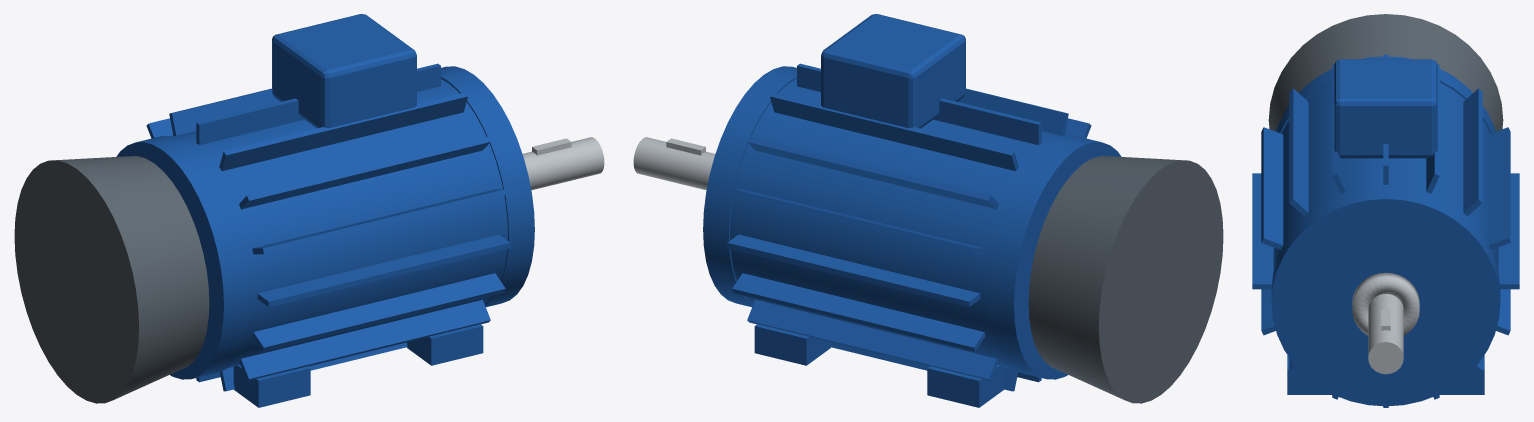
Rendered from motor.glb.
The picture shows the model from 3 angles, left to right: view 1: azimuth 30°, elevation 25°; view 2: azimuth 150°, elevation 25°; view 3: azimuth 270°, elevation 25°; orthographic projection. The views are drawn at different scales.
Parts seen in each view (by area): view 1: Part_Carcasa, Part_Cubreventilador, Part_Caja_Bornes, Part_Tapa_LOA, Part_Tapa_LA, Part_Rotor; view 2: Part_Carcasa, Part_Cubreventilador, Part_Caja_Bornes, Part_Tapa_LOA, Part_Tapa_LA, Part_Rotor; view 3: Part_Tapa_LA, Part_Carcasa, Part_Caja_Bornes, Part_Cubreventilador, Part_Rotor, Part_Rodamiento_LA, Part_Tapa_LOA.
Part boxes in pixels (<box>): Part_Carcasa: <box>146,63,510,407</box>; Part_Cubreventilador: <box>14,156,209,403</box>; Part_Caja_Bornes: <box>272,14,416,128</box>; Part_Tapa_LOA: <box>116,136,249,379</box>; Part_Tapa_LA: <box>441,66,534,307</box>; Part_Rotor: <box>522,137,604,190</box>; Part_Carcasa: <box>727,63,1091,407</box>; Part_Cubreventilador: <box>1028,156,1223,403</box>; Part_Caja_Bornes: <box>821,14,965,128</box>; Part_Tapa_LOA: <box>988,136,1121,379</box>; Part_Tapa_LA: <box>703,66,796,307</box>; Part_Rotor: <box>633,137,715,190</box>; Part_Tapa_LA: <box>1271,187,1500,406</box>; Part_Carcasa: <box>1252,54,1519,407</box>; Part_Caja_Bornes: <box>1334,59,1437,158</box>; Part_Cubreventilador: <box>1268,14,1503,131</box>; Part_Rotor: <box>1368,294,1403,374</box>; Part_Rodamiento_LA: <box>1352,272,1419,335</box>; Part_Tapa_LOA: <box>1276,56,1495,133</box>.
Size of the model in its own units: 0.6 by 0.3355 by 0.285.
